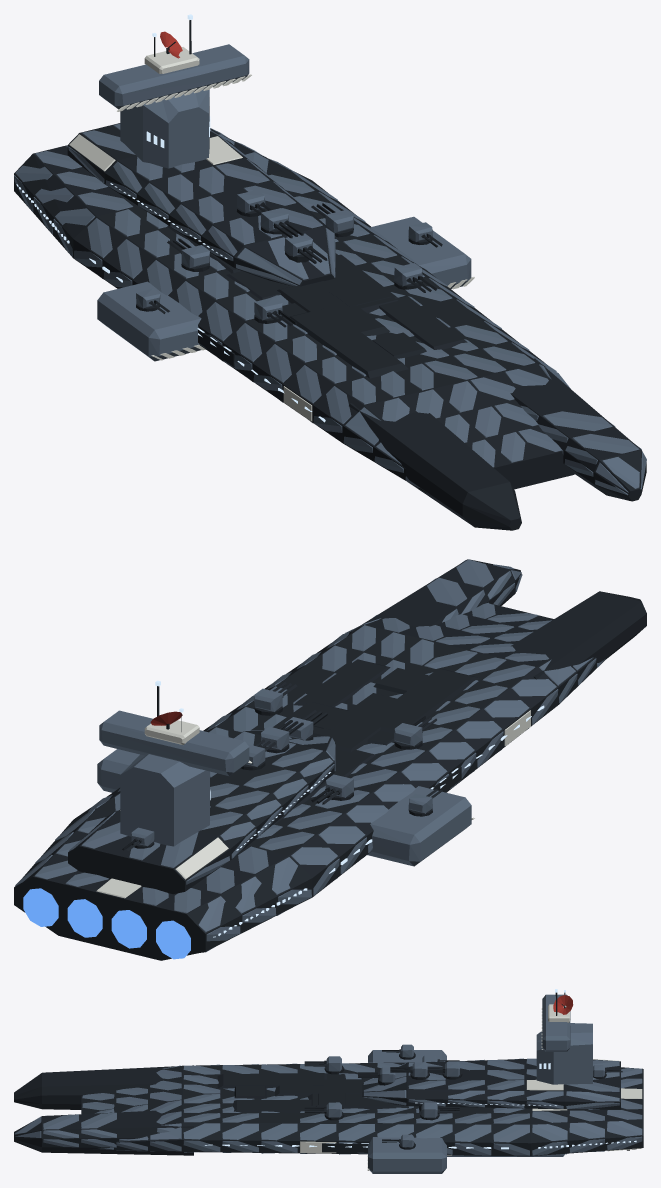
Rendered from RiftCorvette.glb.
The picture shows the model from 3 angles, top to bottom: view 1: azimuth 30°, elevation 25°; view 2: azimuth 150°, elevation 25°; view 3: azimuth 270°, elevation 25°; orthographic projection. The views are drawn at different scales.
Visible parts, largest first — view 1: primary, structure, accent, windows; view 2: primary, structure, engineGlow, accent, windows; view 3: primary, structure, accent, windows, accent2.
Boxes of the visible parts, left/top/right/bottom form: primary: left=14, top=44, right=646, bottom=495; structure: left=14, top=20, right=646, bottom=530; accent: left=69, top=47, right=474, bottom=421; windows: left=16, top=14, right=325, bottom=422; primary: left=15, top=559, right=605, bottom=952; structure: left=14, top=559, right=646, bottom=960; engineGlow: left=23, top=888, right=190, bottom=959; accent: left=96, top=710, right=530, bottom=898; windows: left=155, top=680, right=544, bottom=937; primary: left=15, top=994, right=642, bottom=1173; structure: left=14, top=992, right=643, bottom=1156; accent: left=300, top=1004, right=642, bottom=1170; windows: left=205, top=989, right=636, bottom=1149; accent2: left=553, top=995, right=573, bottom=1014.
Bounding box in the file's own units: 71.58 × 53.78 × 180.
